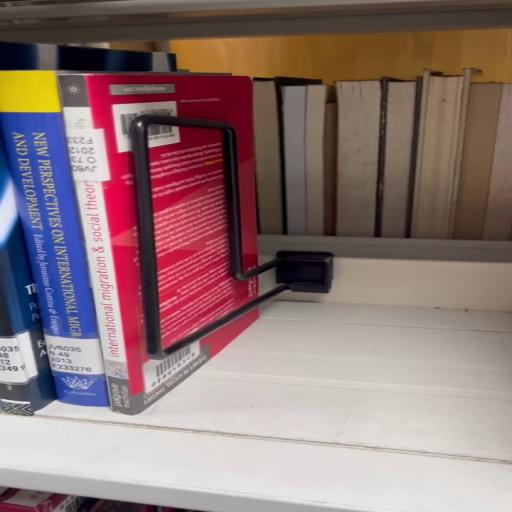reverse: (51, 73, 333, 416)
